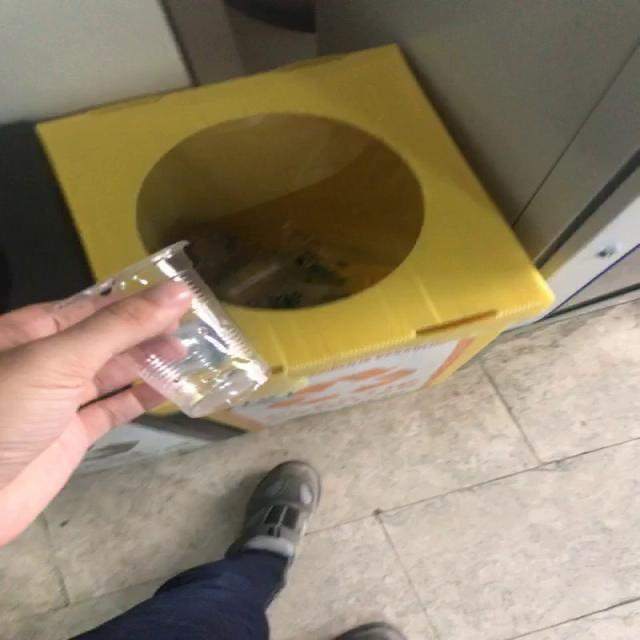Plastic: (59, 240, 269, 418)
